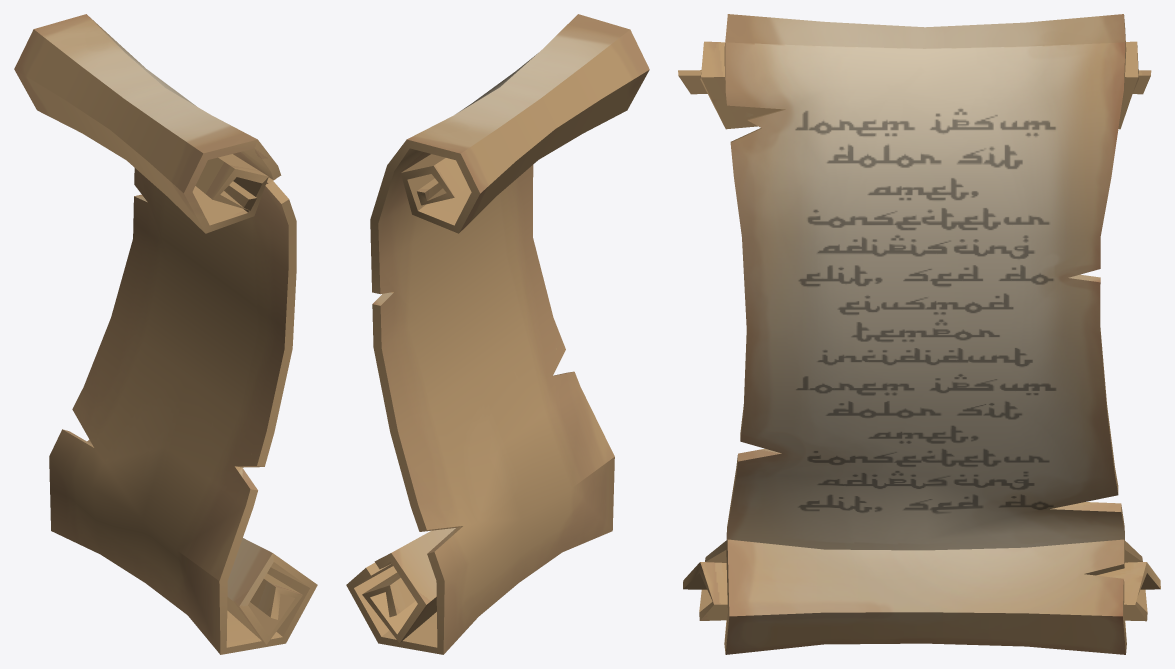
Rendered from pergamino.fbx.
3 renders of one model, left to right at view 1: azimuth 30°, elevation 25°; view 2: azimuth 150°, elevation 25°; view 3: azimuth 270°, elevation 25°, orthographic. The views are drawn at different scales.
Visible parts, largest first — view 1: LowPoly; view 2: LowPoly; view 3: LowPoly.
Part boxes in pixels (box(x1,y1,x2,y2)): LowPoly: box(14, 14, 317, 654); LowPoly: box(346, 14, 649, 654); LowPoly: box(678, 14, 1160, 654).
Size of the model in its own units: 65.18 by 236 by 173.
1 material, 1 textured.
